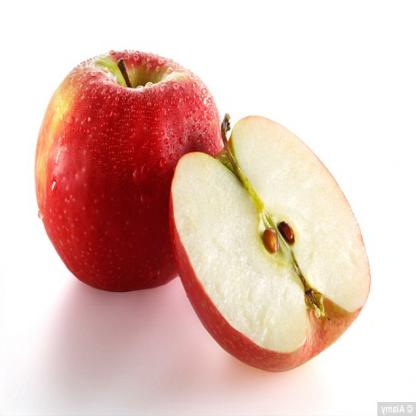apple: (31, 47, 226, 298)
